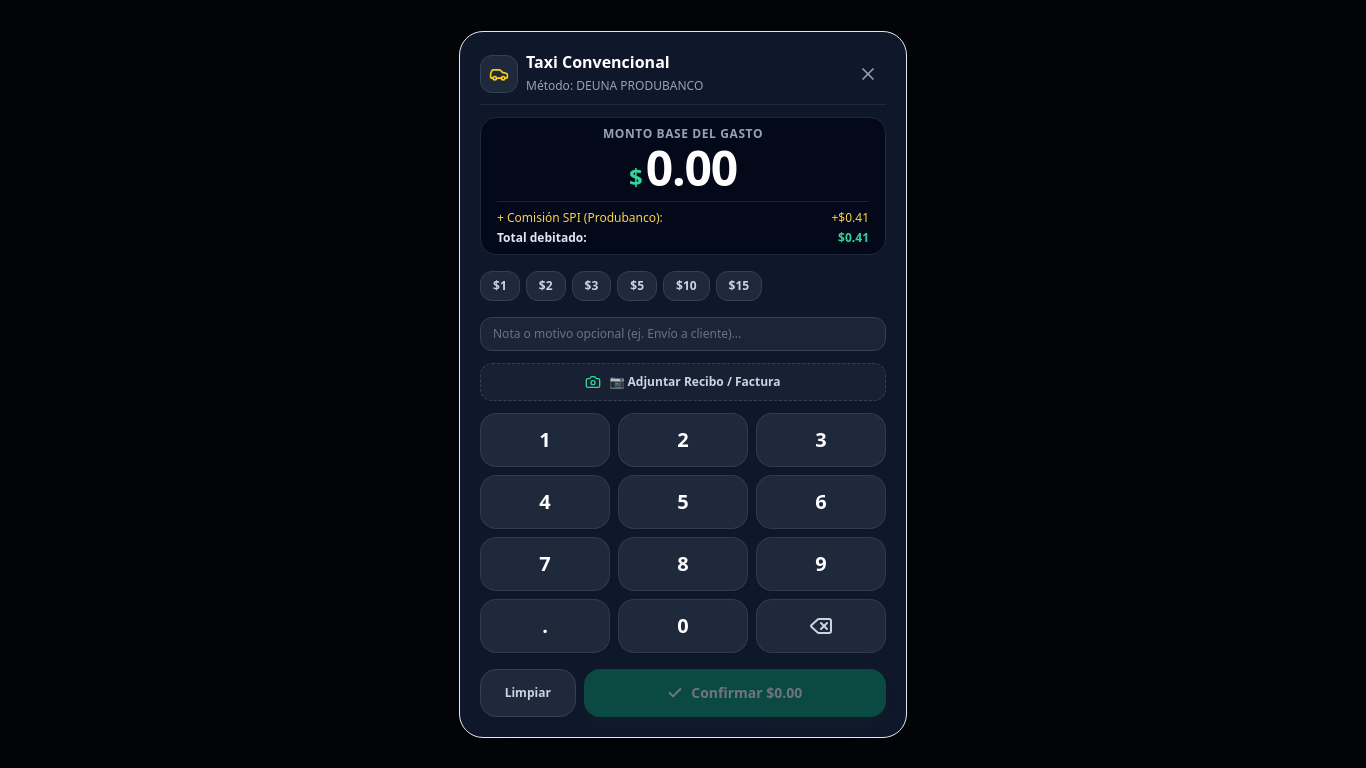
QuickAmountModal › shows SPI commission of $0.41 when paid with DEUNA_PRODUBANCO
Note: Type 4.00
Click the button "4": (545, 502) [480,474,610,528]
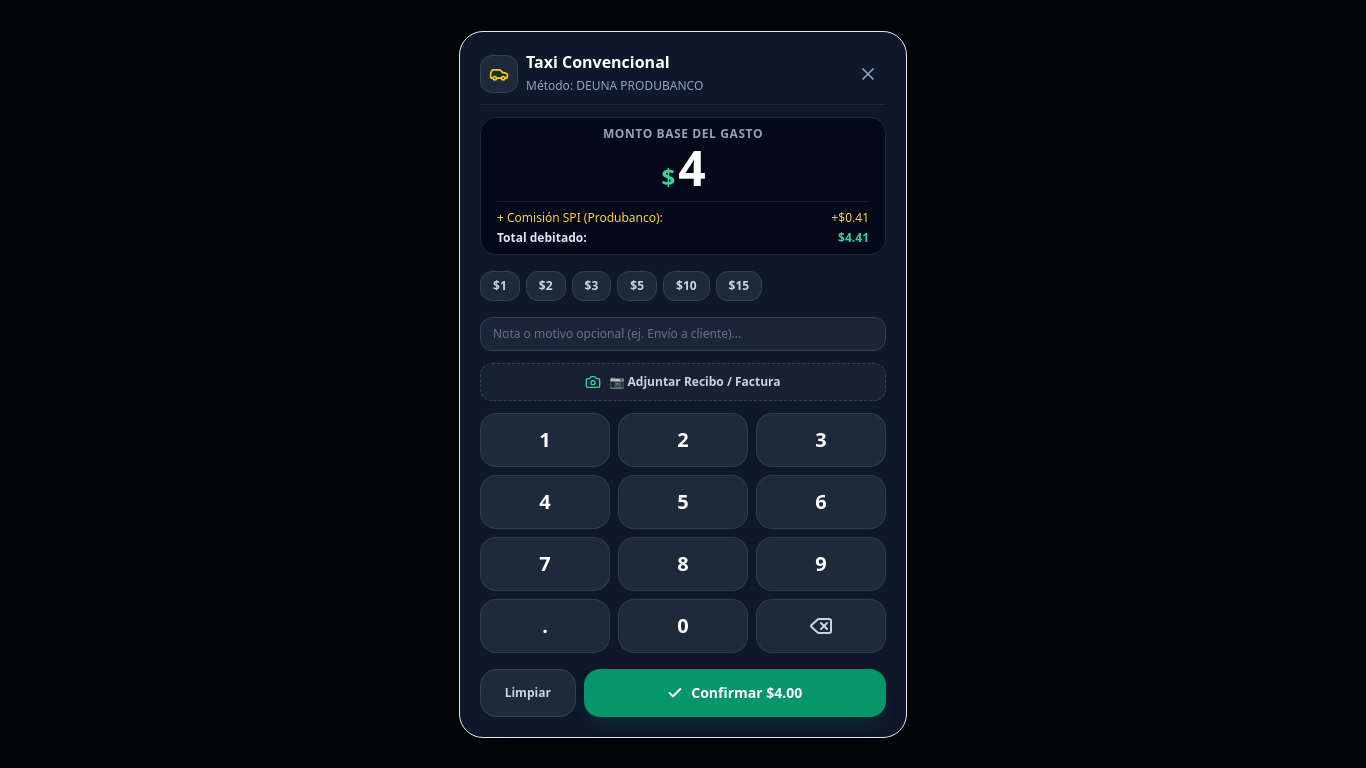
Expected: the text "+ Comisión SPI (Produbanco):" is shown, [497,210,663,226]
Result: the text "$4.41" is shown at [838,230,869,246]
